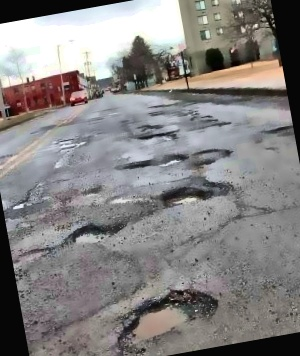pothole: (107, 280, 224, 349), (67, 216, 127, 248), (158, 179, 214, 209), (154, 151, 188, 169), (134, 127, 173, 142), (119, 156, 153, 171)
